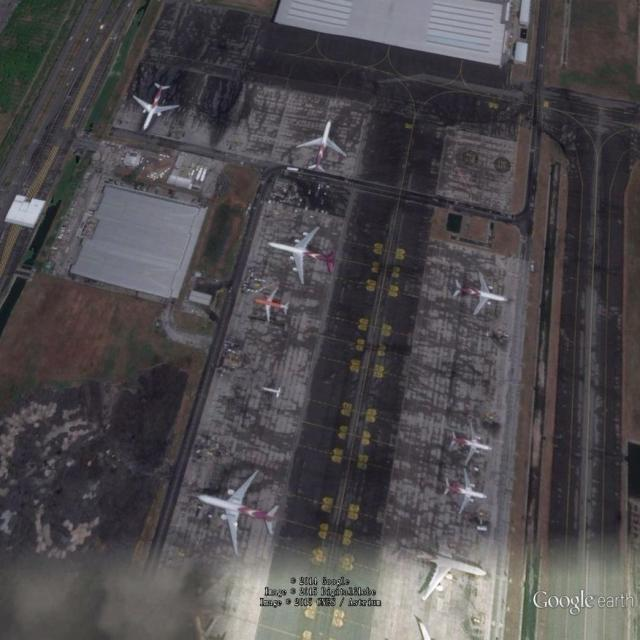aircraft: (196, 468, 283, 561), (389, 527, 490, 605), (267, 226, 341, 291), (293, 119, 350, 178), (450, 270, 514, 320), (130, 82, 183, 138), (440, 466, 490, 519), (447, 416, 496, 469), (253, 286, 295, 324), (260, 384, 284, 402)
